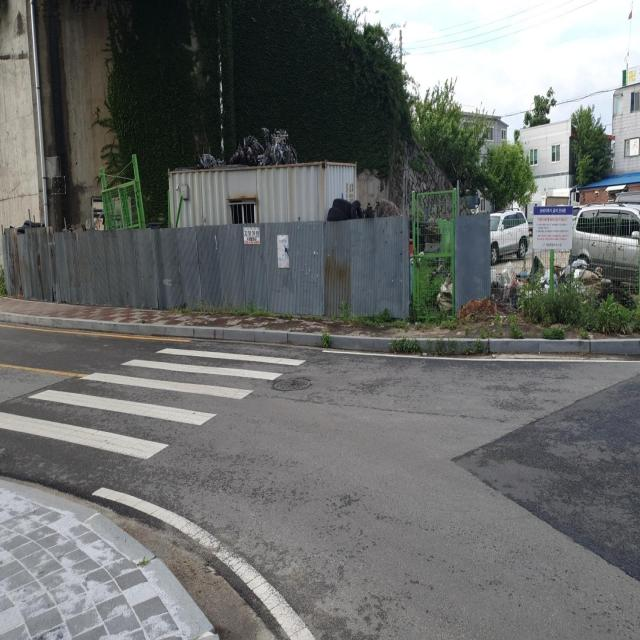횡단보도: (0, 346, 306, 460)
